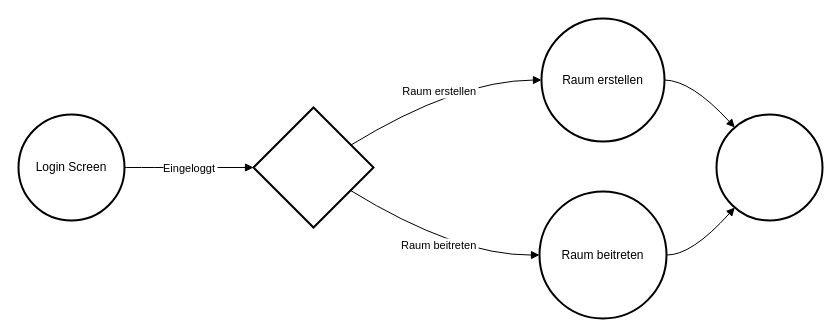
Image size: 840x336. Some labels were removed from this diagram. Each missing label, with the centre of its shape:
"Raumliste" goes at point 313,167.
"Spiel starten" goes at point 769,167.
